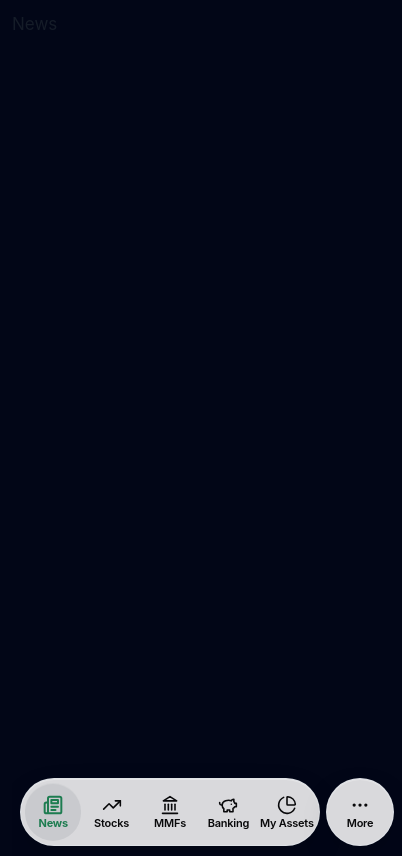
Test case: MobileBottomNav Tab Highlighting Verification › removes pill dead-zone padding and navigates on touch tap with minor thumb drift
Step 1. Press the mouse on the link "Stocks" → (112, 812), box [94,794,129,830]
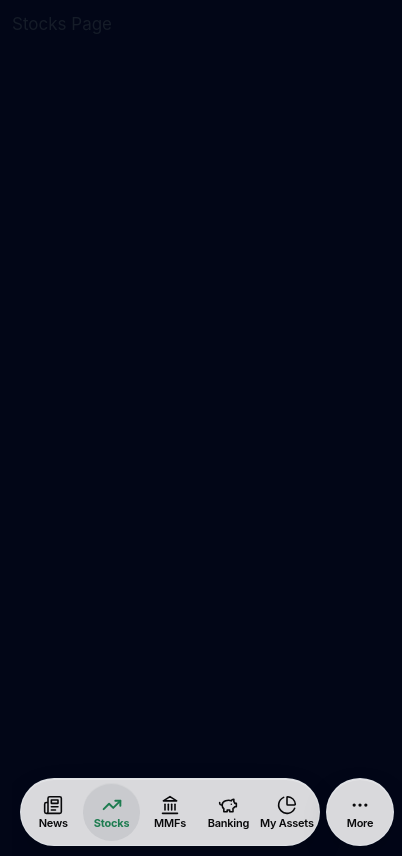
Expected: the text "Stocks" has class "text-emerald-600", [94,816,129,830]
